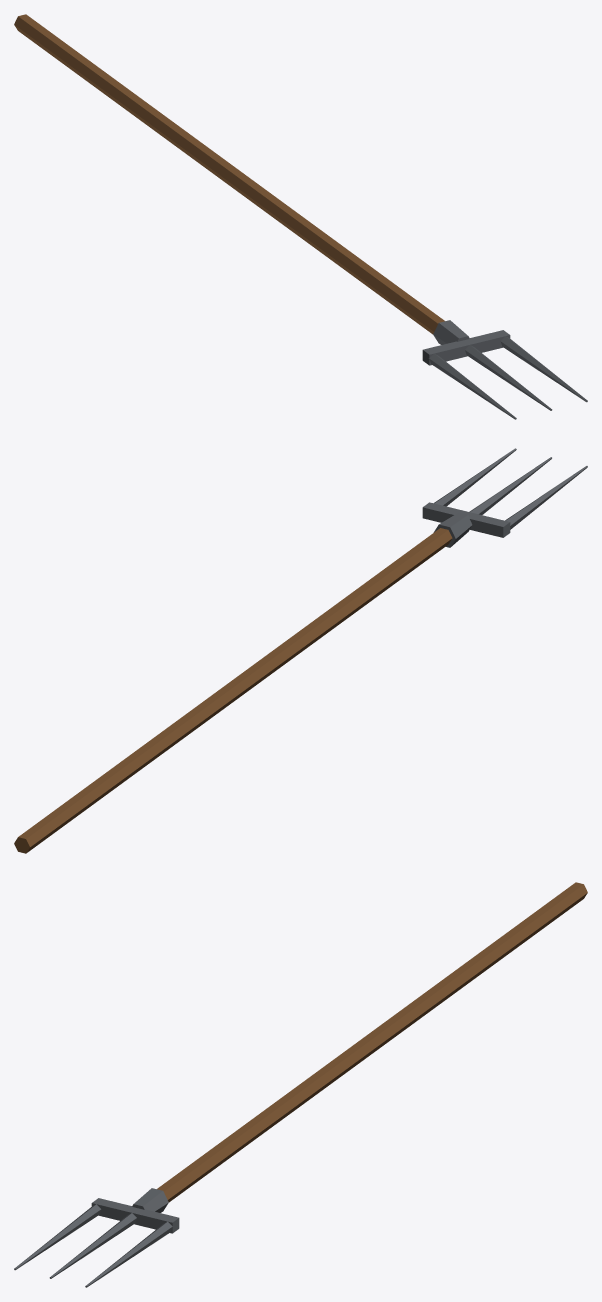
File: prop-pitchfork-lying.glb
The picture shows the model from 3 angles, top to bottom: view 1: azimuth 30°, elevation 25°; view 2: azimuth 150°, elevation 25°; view 3: azimuth 330°, elevation 25°; orthographic projection.
Parts seen in each view (by area): view 1: PropPitchforkLying; view 2: PropPitchforkLying; view 3: PropPitchforkLying.
Boxes of the visible parts, x1,y1,x2,y2 form: PropPitchforkLying: (14,14,587,419); PropPitchforkLying: (14,448,587,853); PropPitchforkLying: (14,882,587,1287).
Bounding box in the file's own units: 0.1709 × 0.0416 × 1.93.
